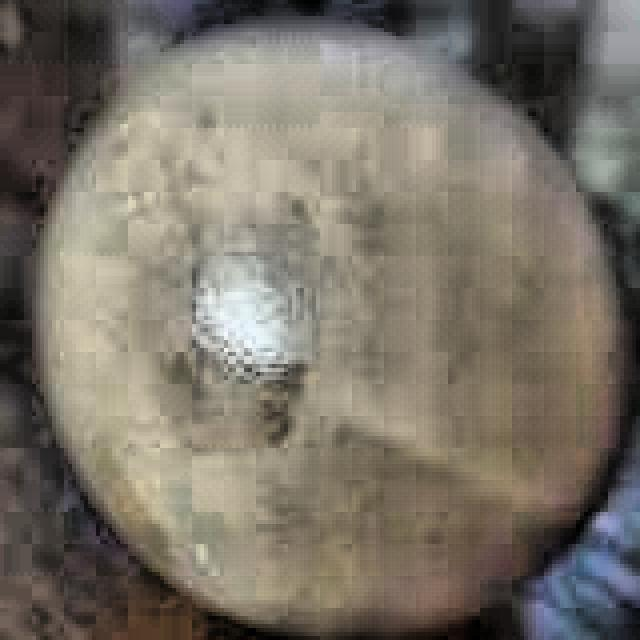egg: (12, 4, 640, 640)
